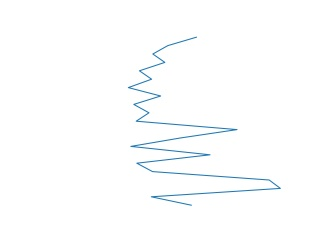crevasseRiverBedLagDeposit: (125, 34, 283, 209)
